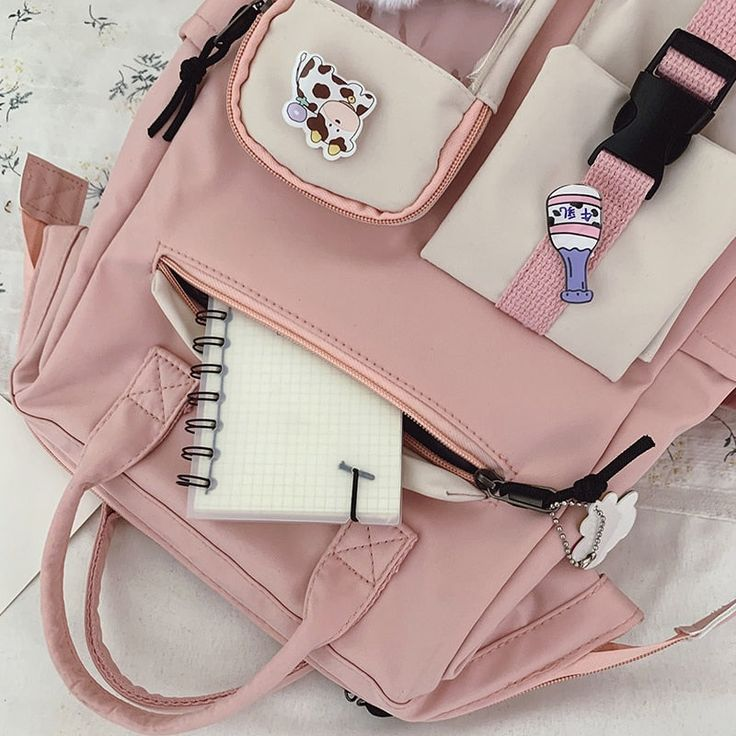nylon: (11, 3, 736, 736)
